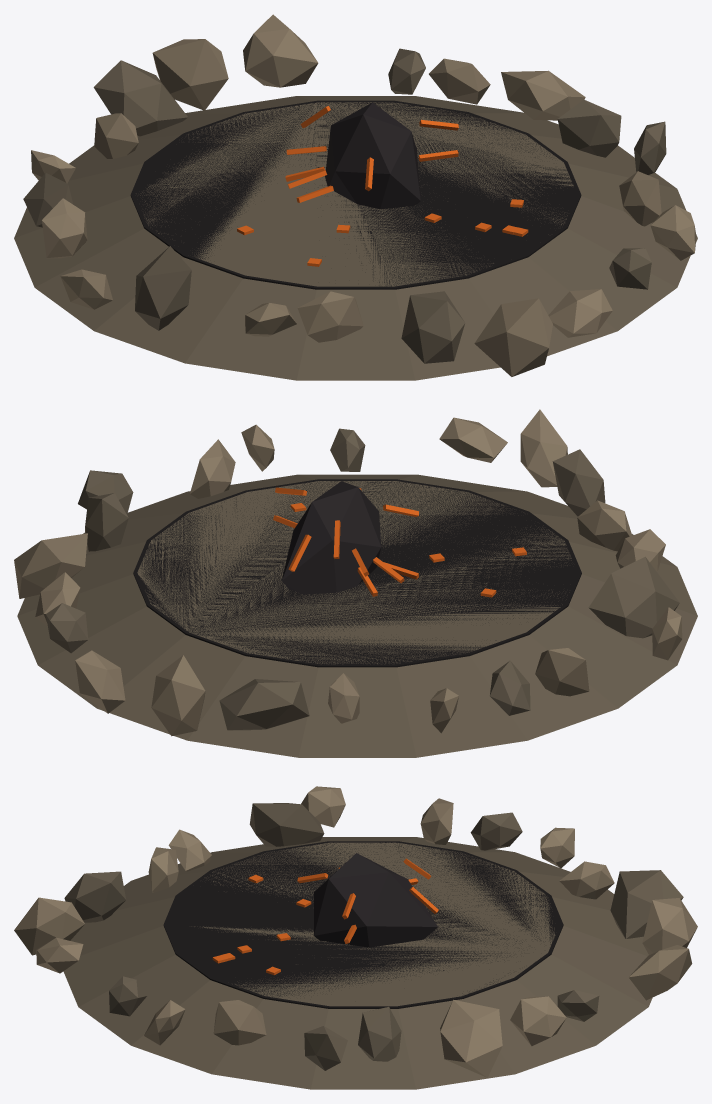
File: crater.fbx
The picture shows the model from 3 angles, top to bottom: view 1: azimuth 30°, elevation 25°; view 2: azimuth 150°, elevation 25°; view 3: azimuth 270°, elevation 25°; orthographic projection. The views are drawn at different scales.
Visible parts, largest first — view 1: crater; view 2: crater; view 3: crater.
Part boxes in pixels (x1,y1,x2,y2): crater: (14, 14, 697, 380); crater: (14, 409, 697, 757); crater: (14, 786, 697, 1089).
Bounding box in the file's own units: 1.73 × 0.3569 × 1.92.
